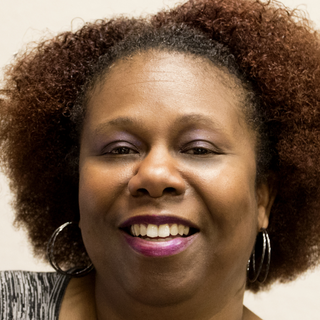eye: (173, 138, 227, 162), (92, 139, 145, 162)
